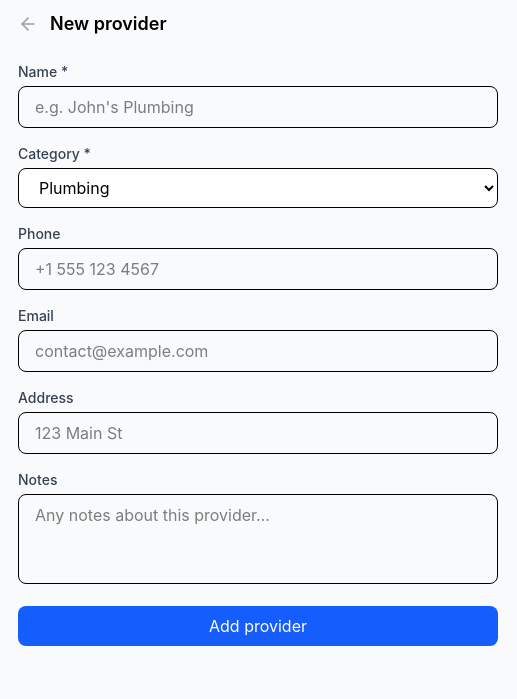
Test: ProviderFormPage — create › shows error on API failure
Type "X" into the field with placeholder "e.g. John's Plumbing" at (258, 107), box [18,86,498,128]
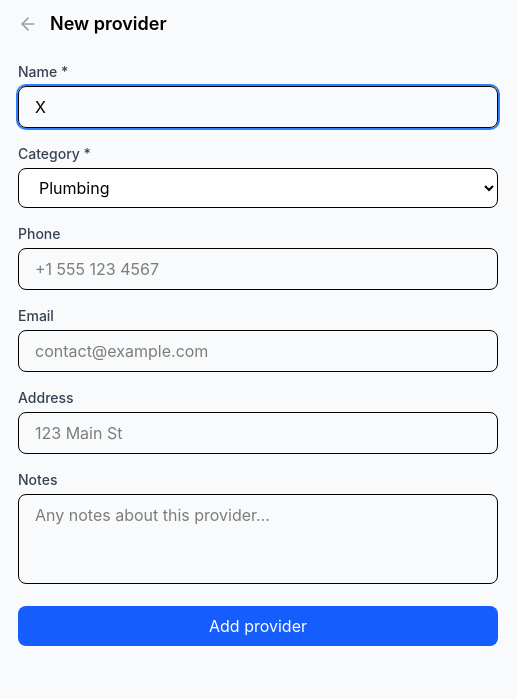
Click the button "Add provider" at (258, 626), box [18,606,498,646]
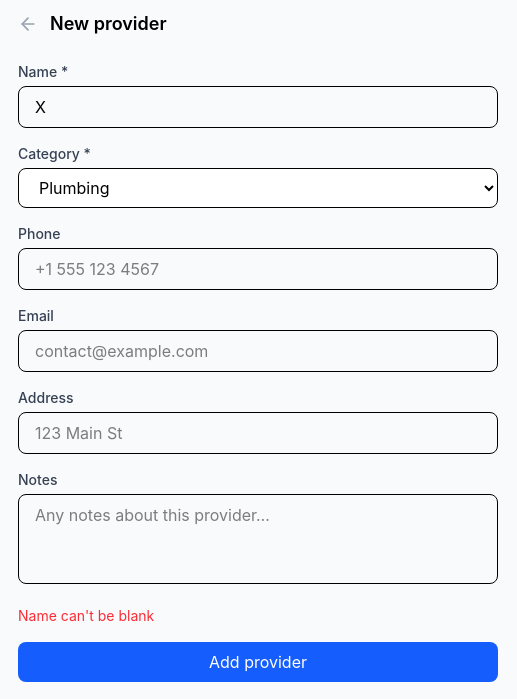
Now the text "Name can't be blank" is shown, box [18,607,154,624]
